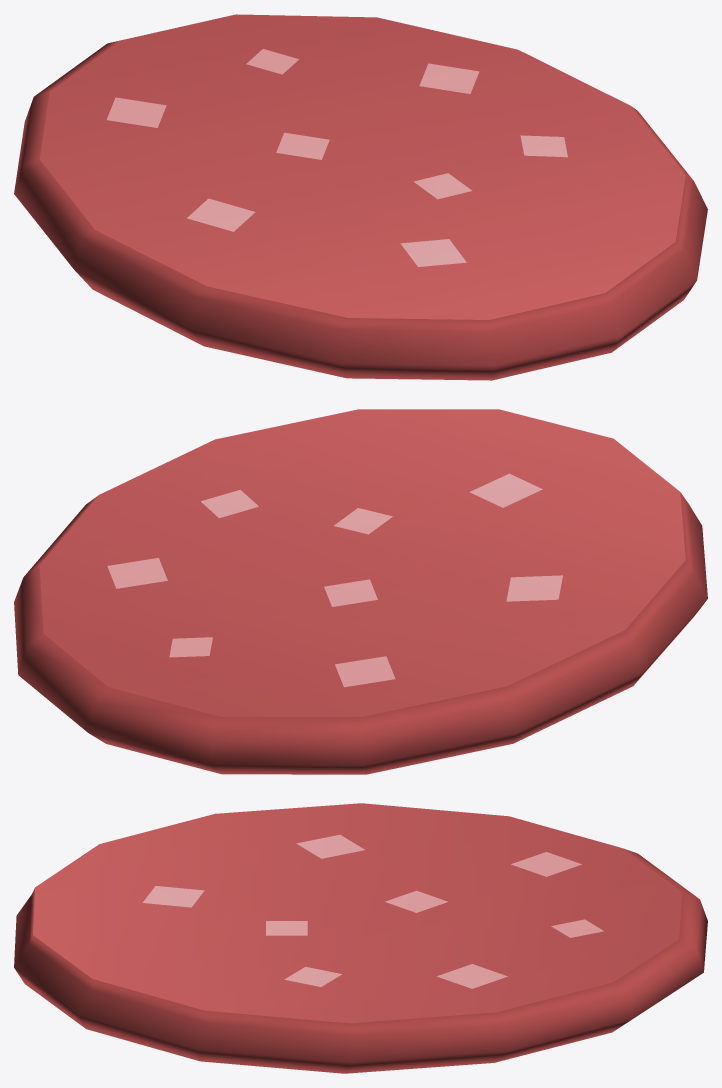
The model's file is sasuage_005.fbx.
The picture shows the model from 3 angles, top to bottom: view 1: azimuth 30°, elevation 25°; view 2: azimuth 150°, elevation 25°; view 3: azimuth 270°, elevation 25°; orthographic projection. The views are drawn at different scales.
Visible parts, largest first — view 1: sasuage_005; view 2: sasuage_005; view 3: sasuage_005.
Part boxes in pixels (x1,y1,x2,y2): sasuage_005: [14, 14, 707, 380]; sasuage_005: [14, 409, 707, 774]; sasuage_005: [14, 803, 707, 1073].
Bounding box in the file's own units: 6.59 × 8.17 × 0.652.
